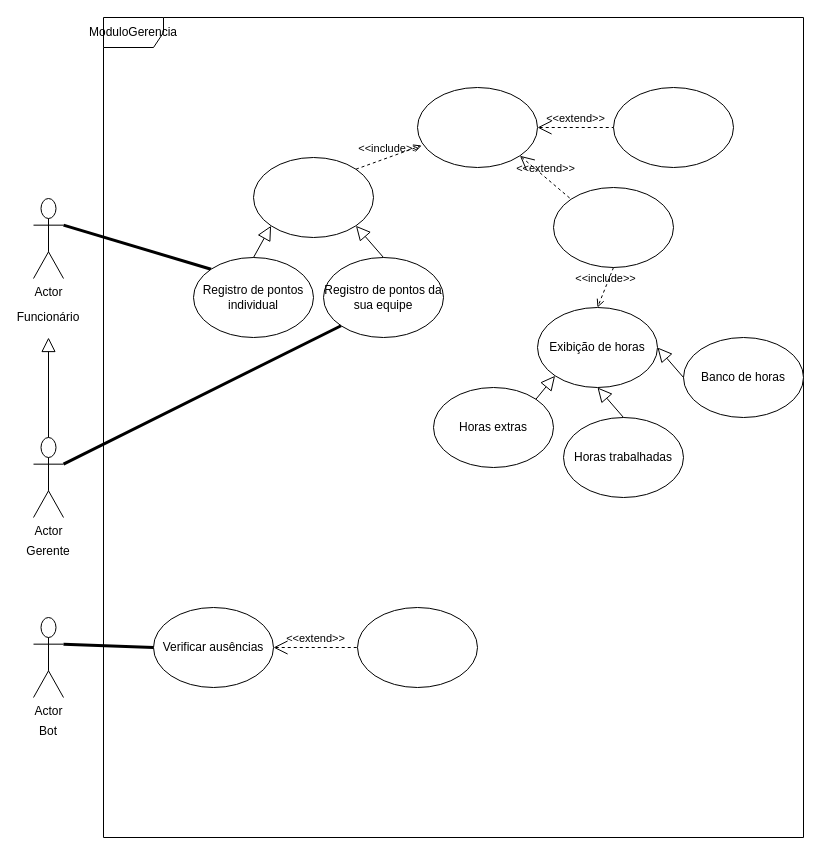
Some shapes in this 821 by 855 pixel diagram are drawn without their labels. The shapes that lost their labels are listed below. From the top down, each one's box as (x1, y1, x2, y2) in pixels, then its label:
(416, 86, 538, 168): Checagem de identificação e acesso
(612, 86, 734, 168): Negar permissão
(252, 156, 374, 238): Acessar registros de pontos
(552, 186, 674, 268): Obtenção dos registros de pontos
(356, 606, 478, 688): Enviar notificações aos interessados
